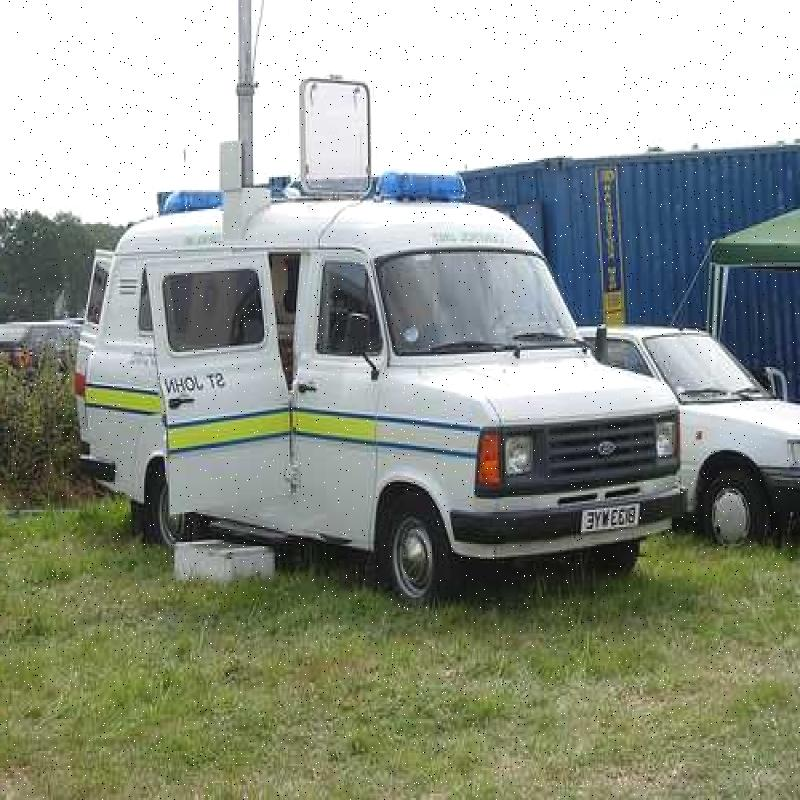AmbulanceSiren: (356, 148, 483, 226)
